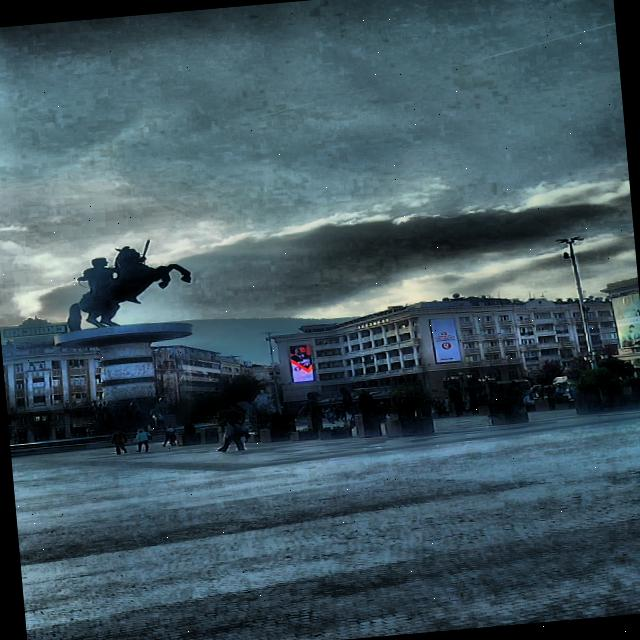alexander the great monument: (35, 234, 218, 442)
